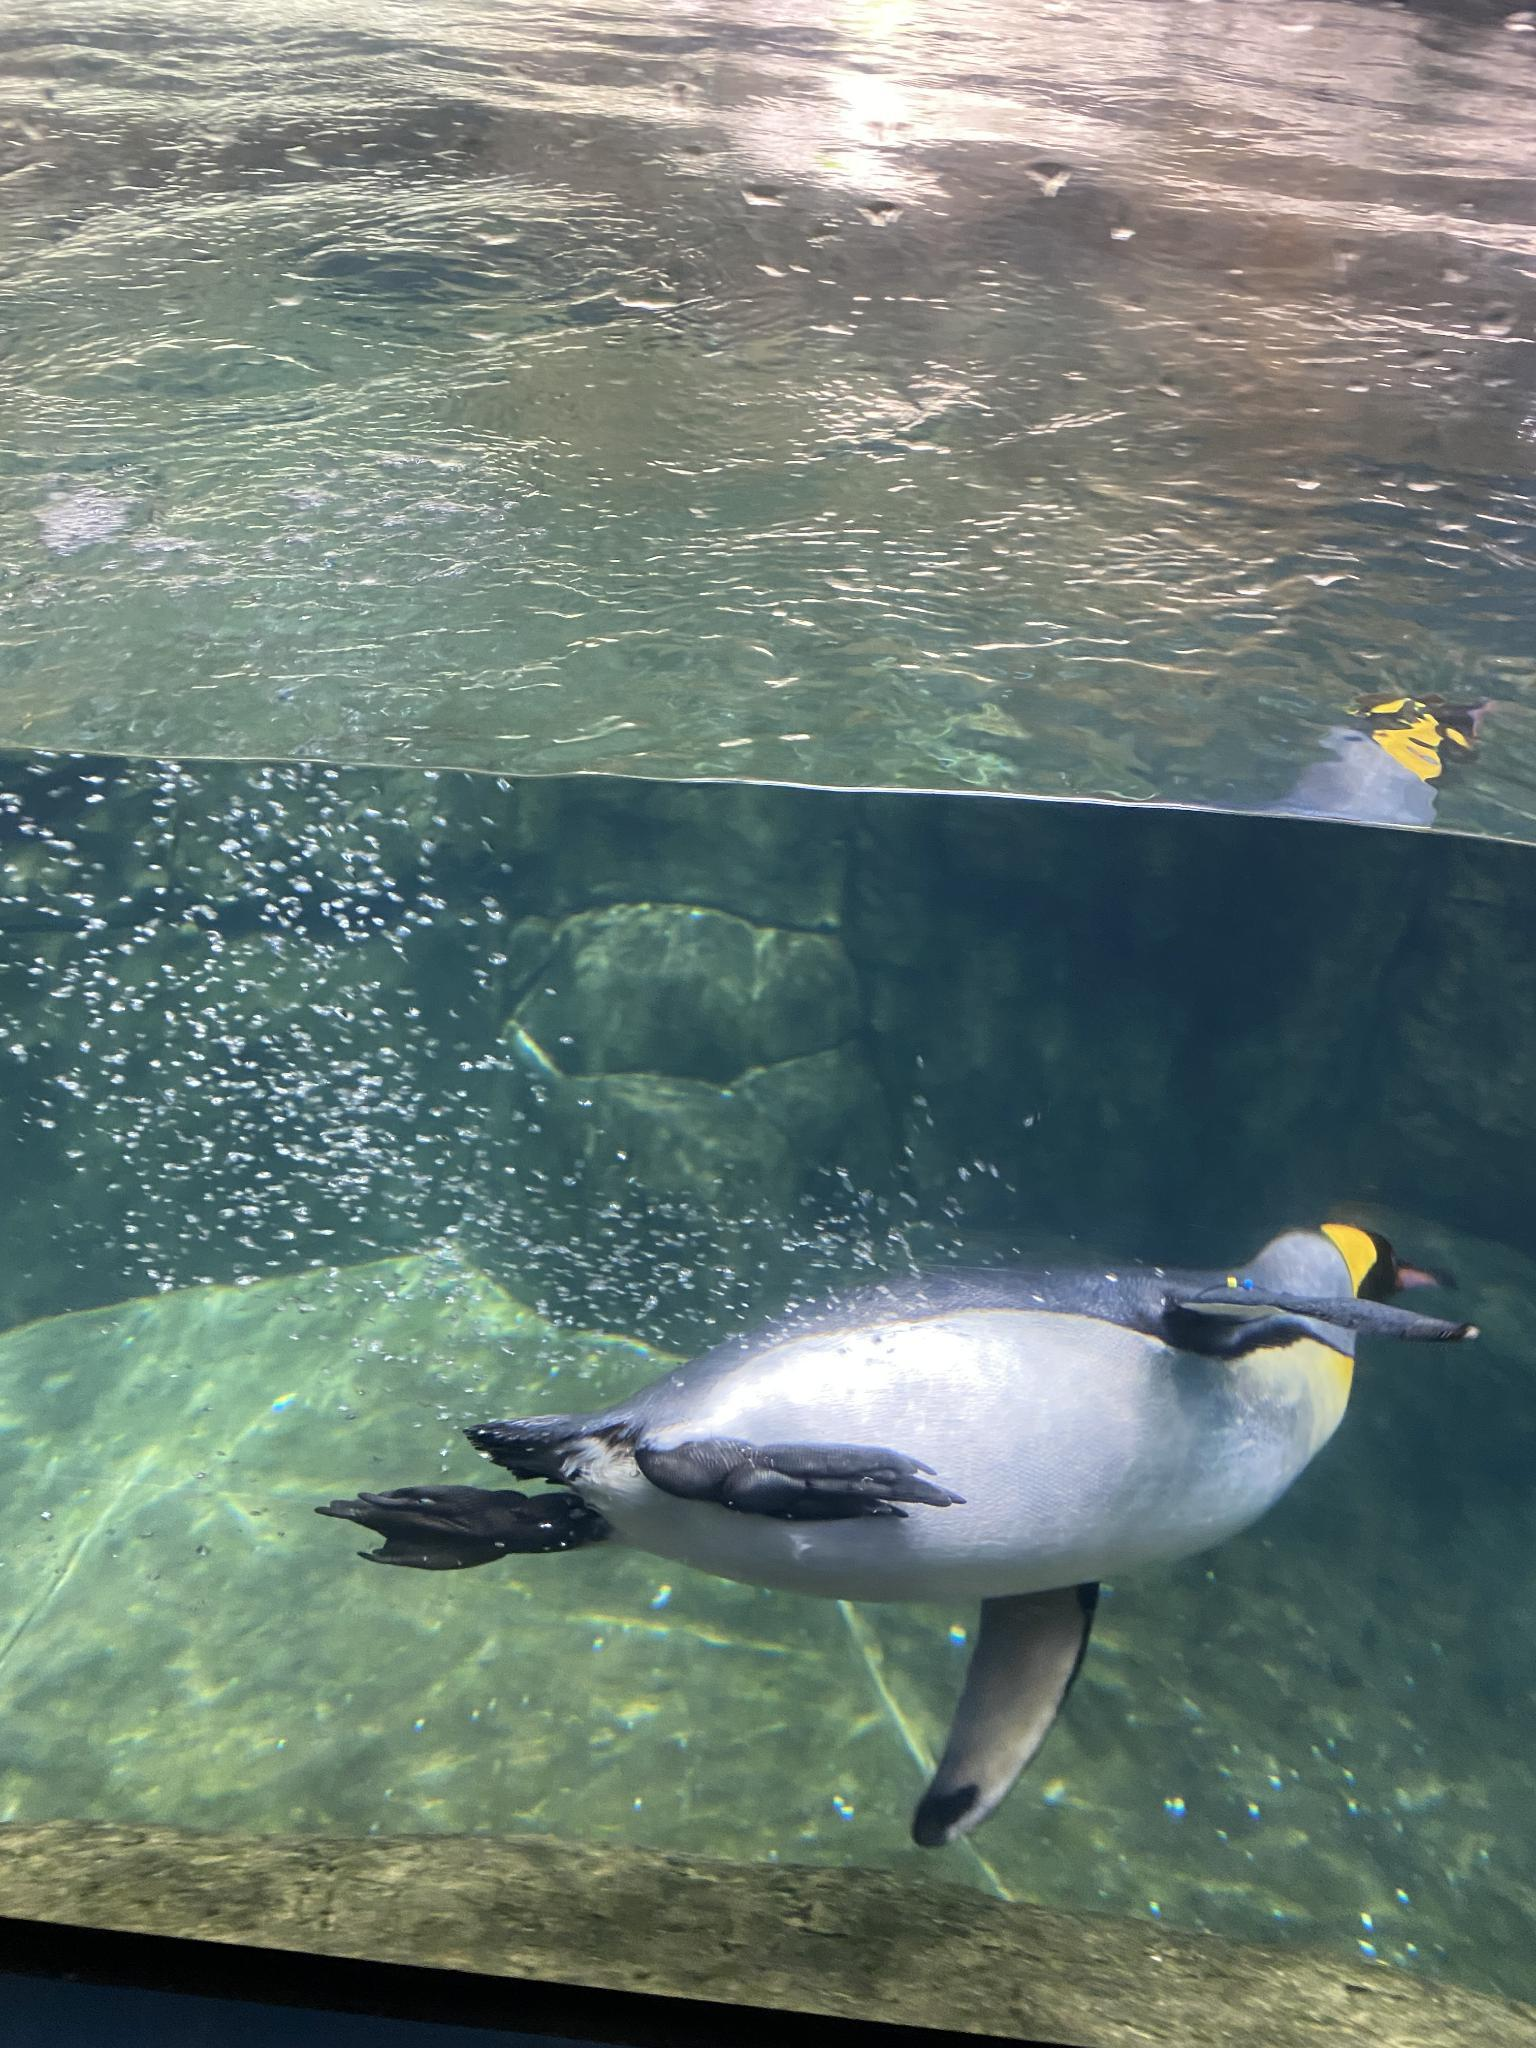penguin: (316, 1221, 1483, 1848)
